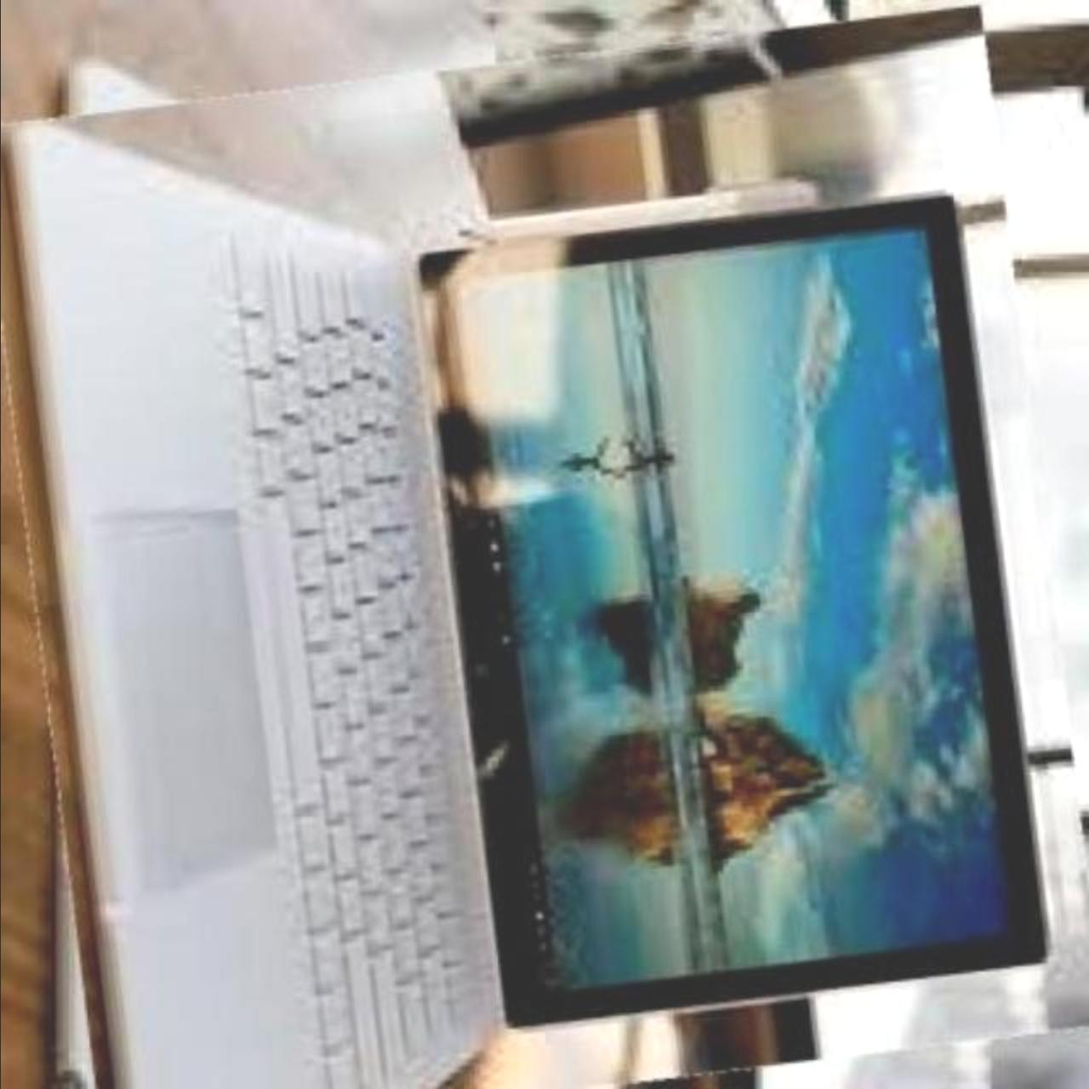laptop: (8, 31, 1075, 1088)
